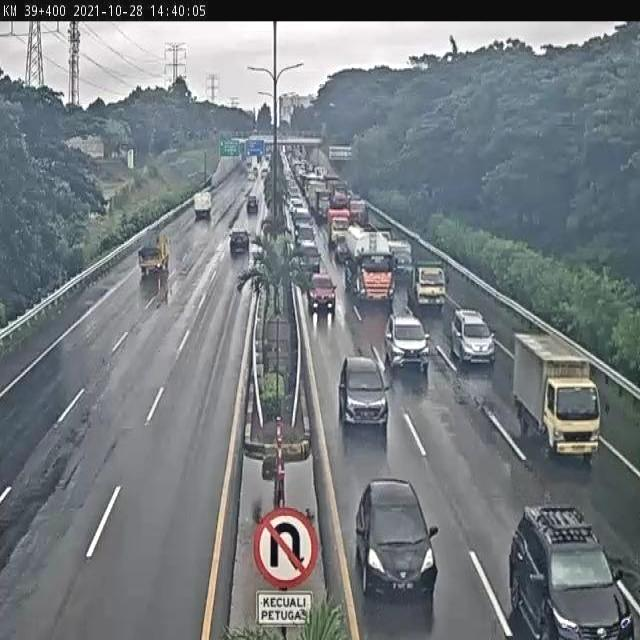Car: (508, 501, 639, 640), (355, 478, 441, 602), (337, 354, 391, 432), (382, 309, 434, 368), (451, 310, 497, 372), (228, 225, 251, 254), (298, 227, 320, 256), (243, 194, 259, 216)
Truck: (512, 329, 604, 463), (345, 224, 395, 304), (409, 259, 450, 311), (138, 228, 174, 278), (307, 273, 338, 314), (328, 206, 352, 254), (192, 190, 216, 220), (299, 248, 321, 274)
